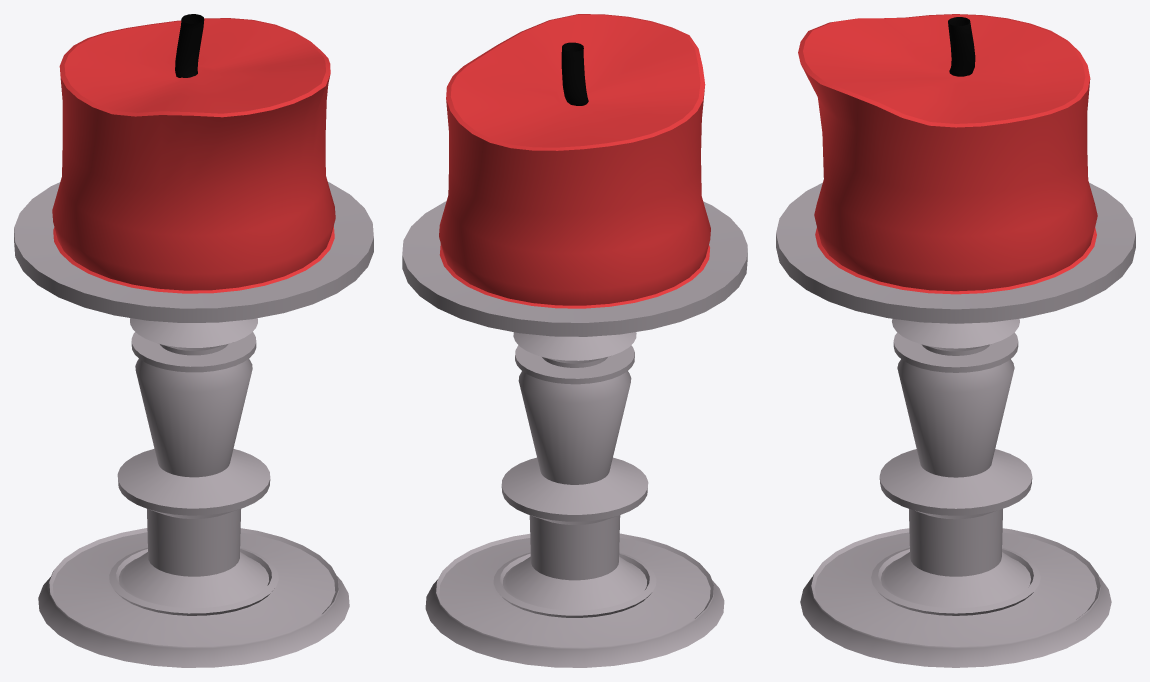
Rendered from CandlesFat_Short.fbx.
3 views of the same model, side by side, from view 1: azimuth 30°, elevation 25°; view 2: azimuth 150°, elevation 25°; view 3: azimuth 270°, elevation 25° (orthographic). The views are drawn at different scales.
Visible parts, largest first — view 1: CandleShort; view 2: CandleShort; view 3: CandleShort.
Part boxes in pixels (x1,y1,x2,y2): CandleShort: (14, 14, 373, 667); CandleShort: (402, 14, 747, 667); CandleShort: (776, 14, 1135, 667).
Bounding box in the file's own units: 13.67 × 24.36 × 13.68.
